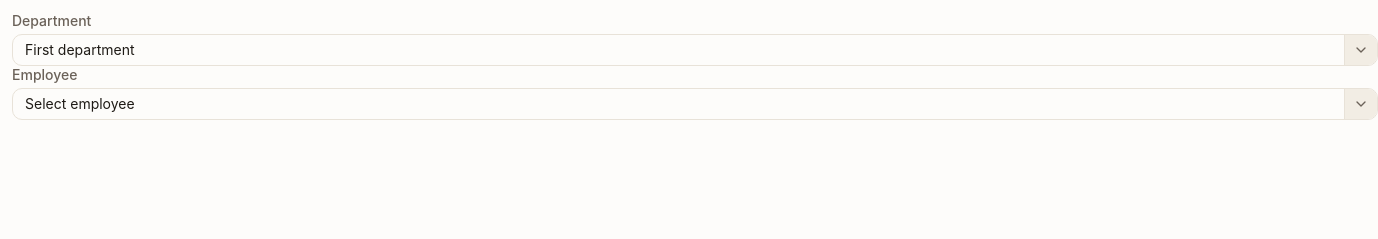
Test: searchable Select compatibility › clears dependent choices when their available records change and preserves blur validation
Focus the dropdown labelled "Employee" at (678, 104), box [13,89,1344,119]
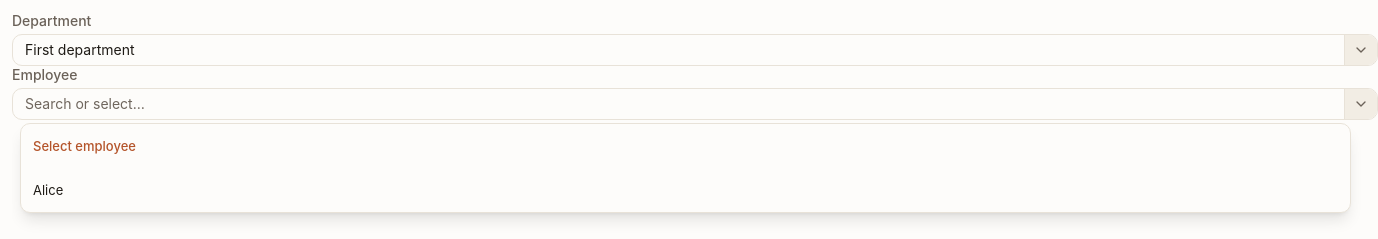
Leave the dropdown labelled "Employee", box [13,89,1344,119]
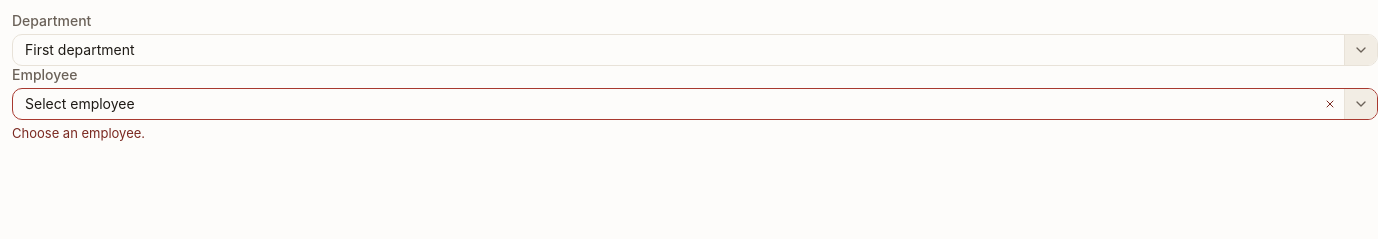
Expected: the text "Choose an employee." is shown, [12,125,145,141]
Focus the dropdown labelled "Employee" at (664, 104), box [13,89,1316,119]
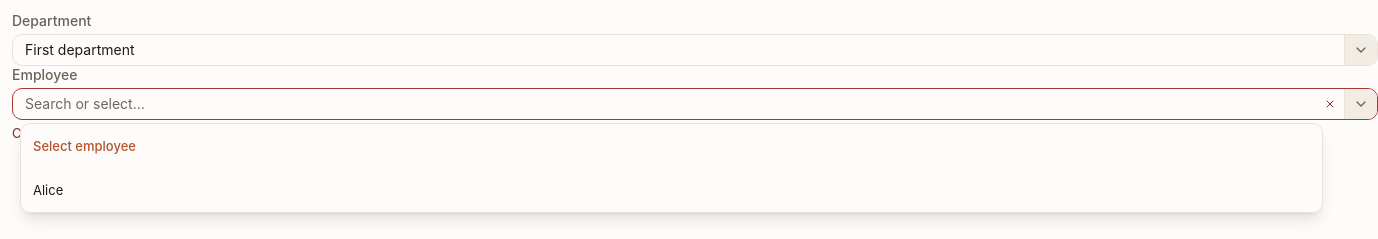
Click the option "Alice" at (48, 190), box [21,168,1322,212]
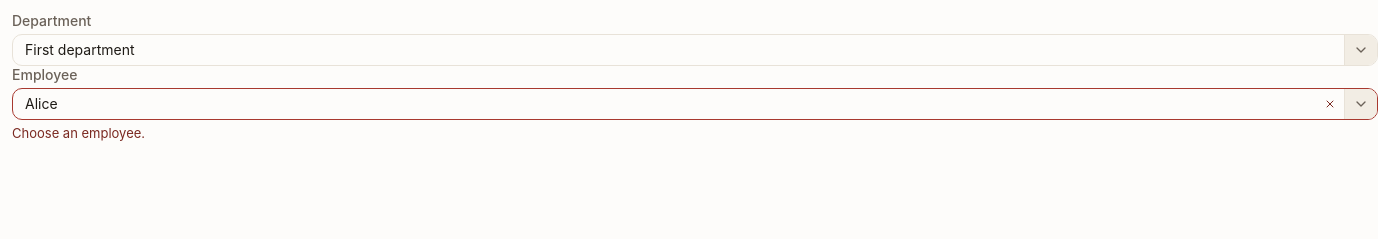
Focus the dropdown labelled "Department" at (678, 50), box [13,35,1344,65]
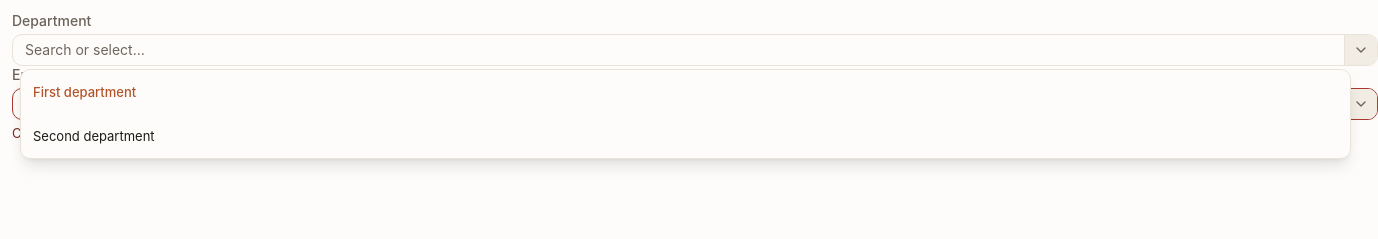
Click the option "Second department" at (94, 136), box [21,114,1350,158]
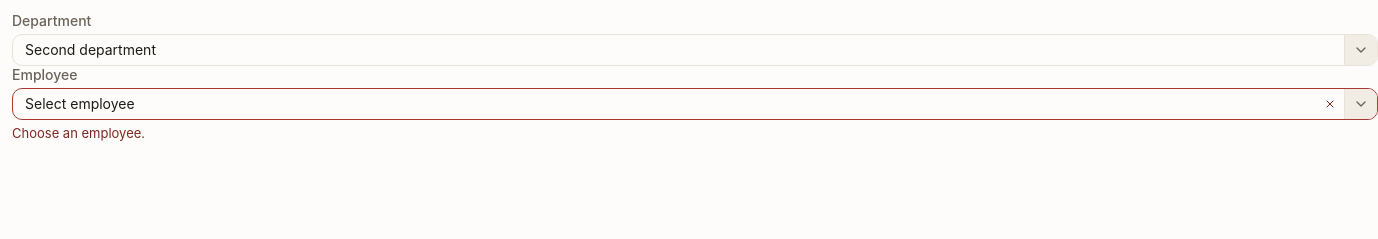
Expected: the dropdown labelled "Employee" holds "Select employee", [13,89,1316,119]
